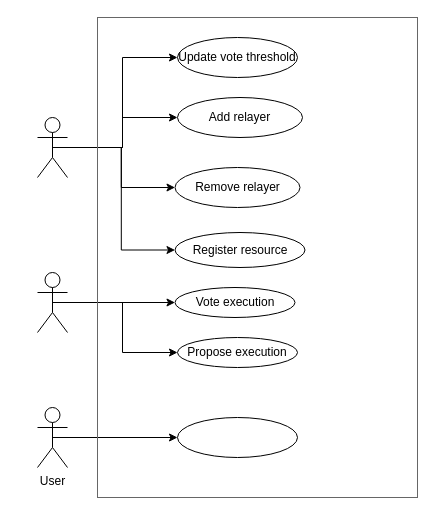
Image size: 435x515. Some labels were removed from this diagram. The centre of each missing label's shape, as x and y in pixels:
Bridge admin: point (52, 147)
Deposit tokens: point (237, 437)
Relayer: point (52, 302)
